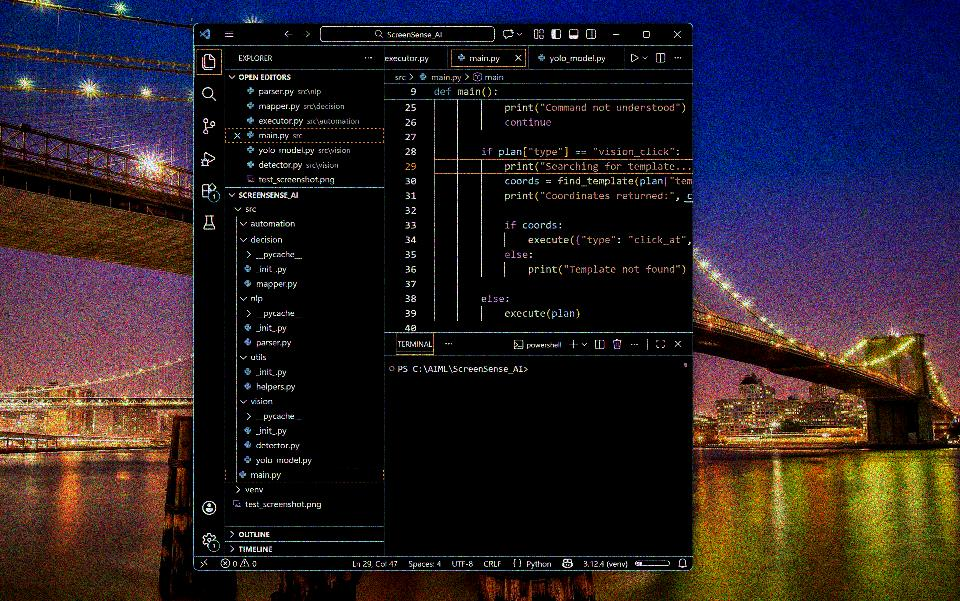close_button: (667, 24, 690, 47)
maximize_button: (636, 23, 659, 46)
minimize_button: (606, 24, 631, 46)
